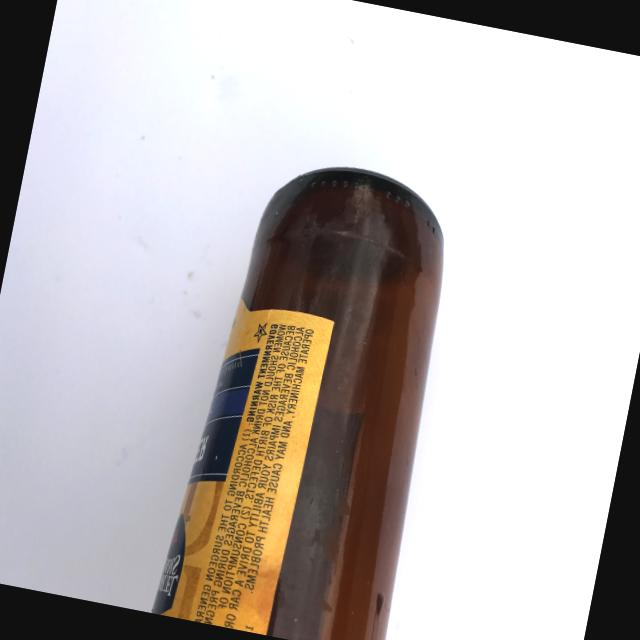Glass: (142, 128, 504, 640)
